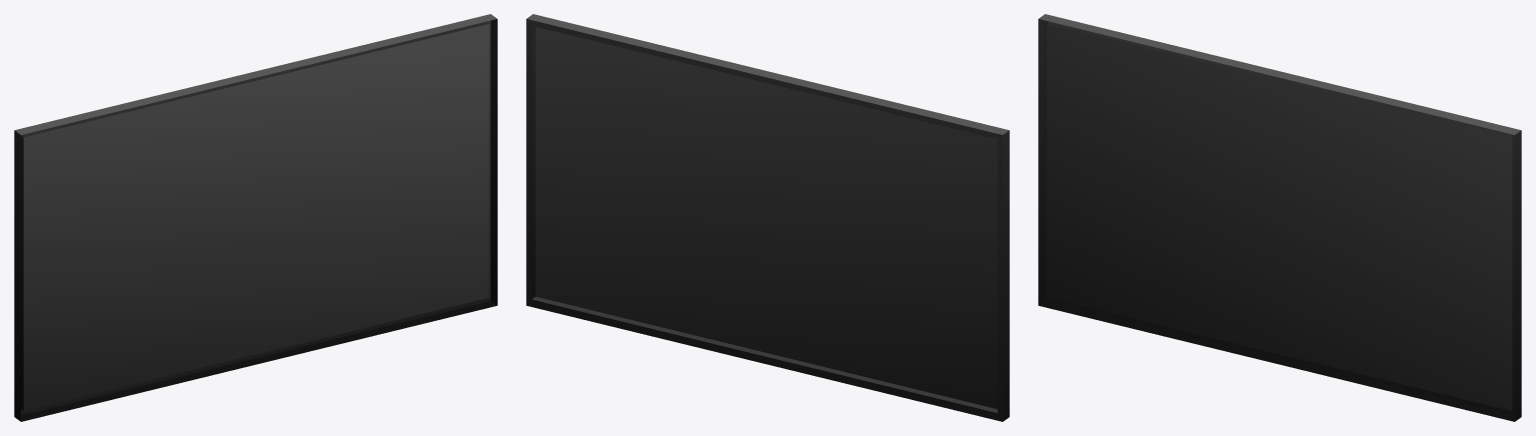
File: CR_TVmonitor_001.FBX
The picture shows the model from 3 angles, left to right: view 1: azimuth 30°, elevation 25°; view 2: azimuth 150°, elevation 25°; view 3: azimuth 330°, elevation 25°; orthographic projection.
Visible parts, largest first — view 1: CR_TVmonitor_001; view 2: CR_TVmonitor_001; view 3: CR_TVmonitor_001.
Part boxes in pixels (x1,y1,x2,y2): CR_TVmonitor_001: (14, 14, 497, 421); CR_TVmonitor_001: (526, 14, 1009, 421); CR_TVmonitor_001: (1038, 14, 1521, 421).
Bounding box in the file's own units: 140 × 80.58 × 3.4.
1 material, 1 textured.
